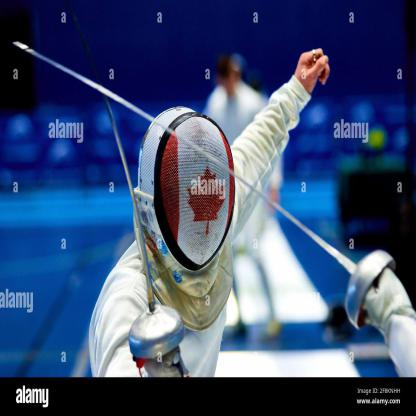fencer: (85, 42, 327, 385)
